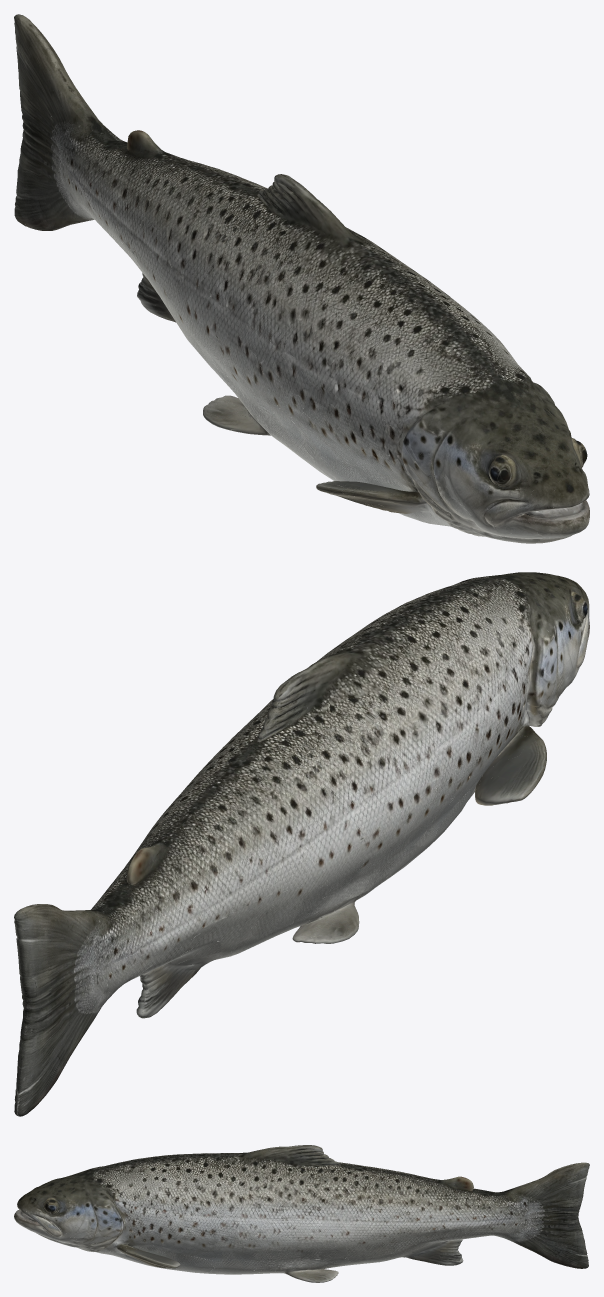
The model's file is troc_wedrowna.glb.
3 renders of one model, top to bottom at view 1: azimuth 30°, elevation 25°; view 2: azimuth 150°, elevation 25°; view 3: azimuth 270°, elevation 25°, orthographic. The views are drawn at different scales.
Parts seen in each view (by area): view 1: Mesh_0; view 2: Mesh_0; view 3: Mesh_0.
Boxes of the visible parts, x1,y1,x2,y2 form: Mesh_0: [14, 14, 589, 543]; Mesh_0: [14, 572, 589, 1116]; Mesh_0: [14, 1145, 589, 1282].
Bounding box in the file's own units: 0.4147 × 0.4531 × 1.9.
Materials: 1 (1 with a texture image).
